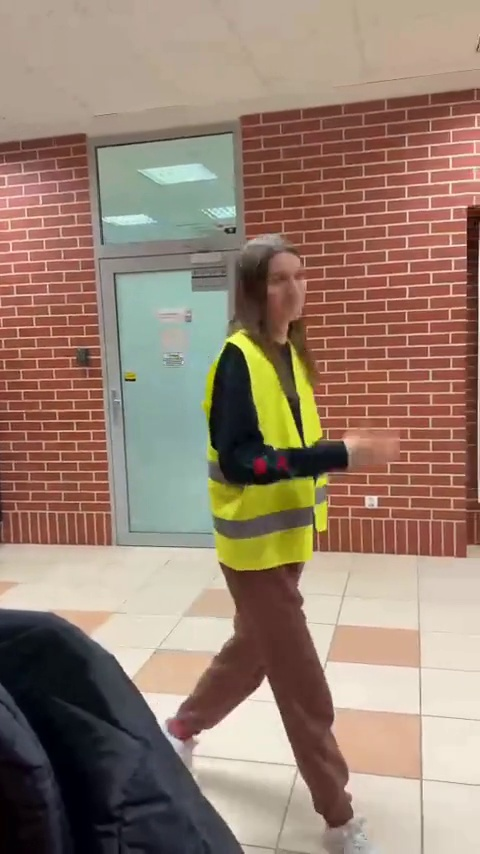vest: (184, 235, 375, 836)
